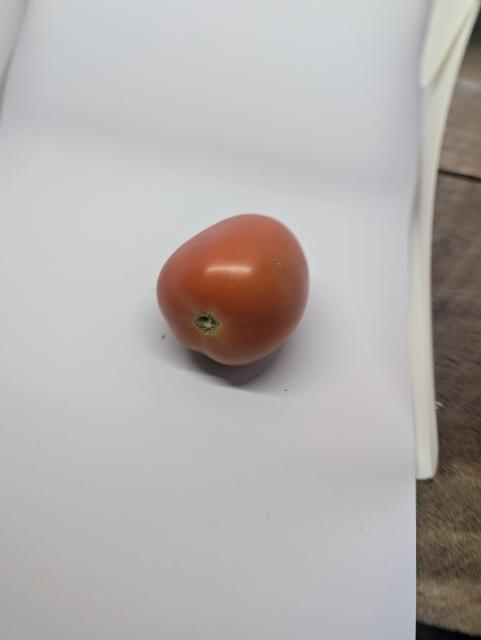red: (144, 207, 332, 387)
